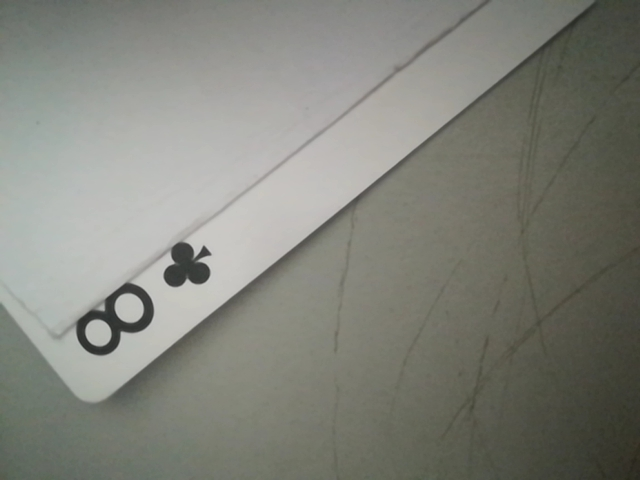mh 8: (56, 234, 219, 375)
